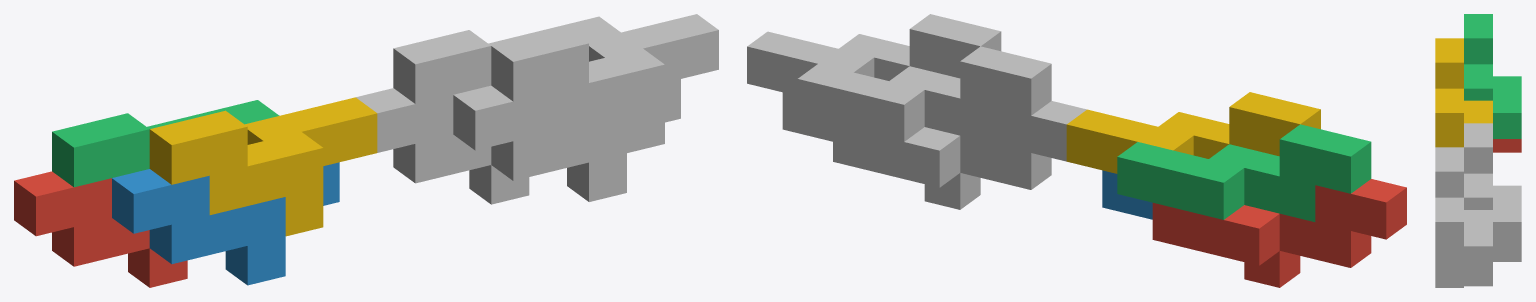
File: tiling.obj
3 views of the same model, side by side, from view 1: azimuth 30°, elevation 25°; view 2: azimuth 150°, elevation 25°; view 3: azimuth 270°, elevation 25° (orthographic). The views are drawn at different scales.
Parts seen in each view (by area): view 1: copy_1_domain_4, copy_1_domain_8, copy_1_domain_2, copy_1_domain_6, copy_1_domain_1, copy_1_domain_5, copy_1_domain_7, copy_1_domain_3; view 2: copy_1_domain_3, copy_1_domain_7, copy_1_domain_1, copy_1_domain_5, copy_1_domain_8, copy_1_domain_4, copy_1_domain_6, copy_1_domain_2; view 3: copy_1_domain_8, copy_1_domain_3, copy_1_domain_7, copy_1_domain_4, copy_1_domain_6, copy_1_domain_1, copy_1_domain_5.
Part boxes in pixels (x1,y1,x2,y2): copy_1_domain_4: (149, 97, 377, 236); copy_1_domain_8: (491, 14, 718, 152); copy_1_domain_2: (112, 162, 339, 285); copy_1_domain_6: (453, 79, 680, 201); copy_1_domain_1: (14, 171, 187, 287); copy_1_domain_5: (356, 88, 529, 204); copy_1_domain_7: (393, 16, 620, 103); copy_1_domain_3: (52, 100, 279, 187); copy_1_domain_3: (1117, 124, 1371, 221); copy_1_domain_7: (797, 46, 1051, 144); copy_1_domain_1: (1152, 179, 1406, 287); copy_1_domain_5: (833, 101, 1086, 209); copy_1_domain_8: (747, 14, 1001, 95); copy_1_domain_4: (1066, 92, 1320, 173); copy_1_domain_6: (782, 92, 832, 141); copy_1_domain_2: (1102, 170, 1152, 219); copy_1_domain_8: (1435, 147, 1492, 273); copy_1_domain_3: (1464, 14, 1521, 138); copy_1_domain_7: (1464, 123, 1521, 247); copy_1_domain_4: (1435, 38, 1492, 147); copy_1_domain_6: (1435, 272, 1492, 287); copy_1_domain_1: (1493, 139, 1521, 152); copy_1_domain_5: (1493, 248, 1521, 261).
Bounding box in the file's own units: 18 × 4 × 3.
